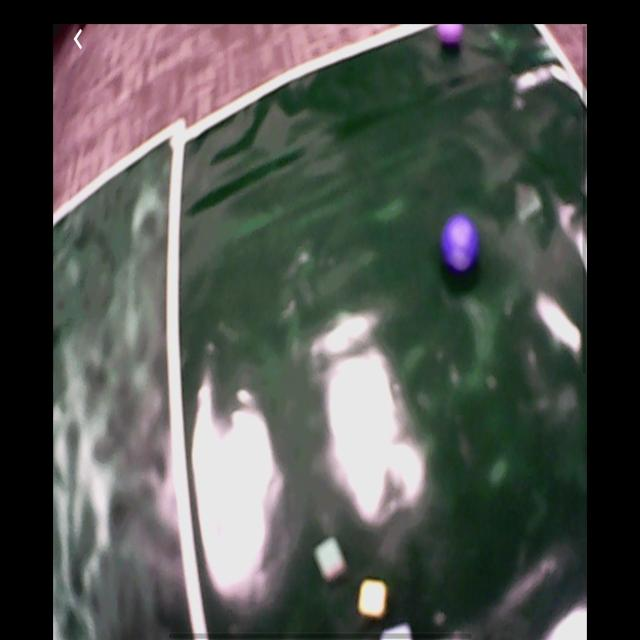ball: (441, 214, 481, 273), (437, 26, 466, 44)
